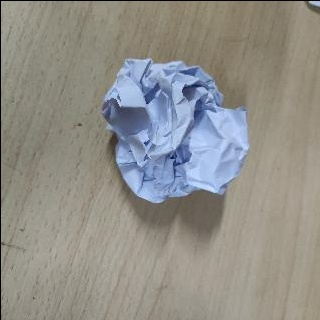8/可回收垃圾/纸: (100, 57, 250, 204)
